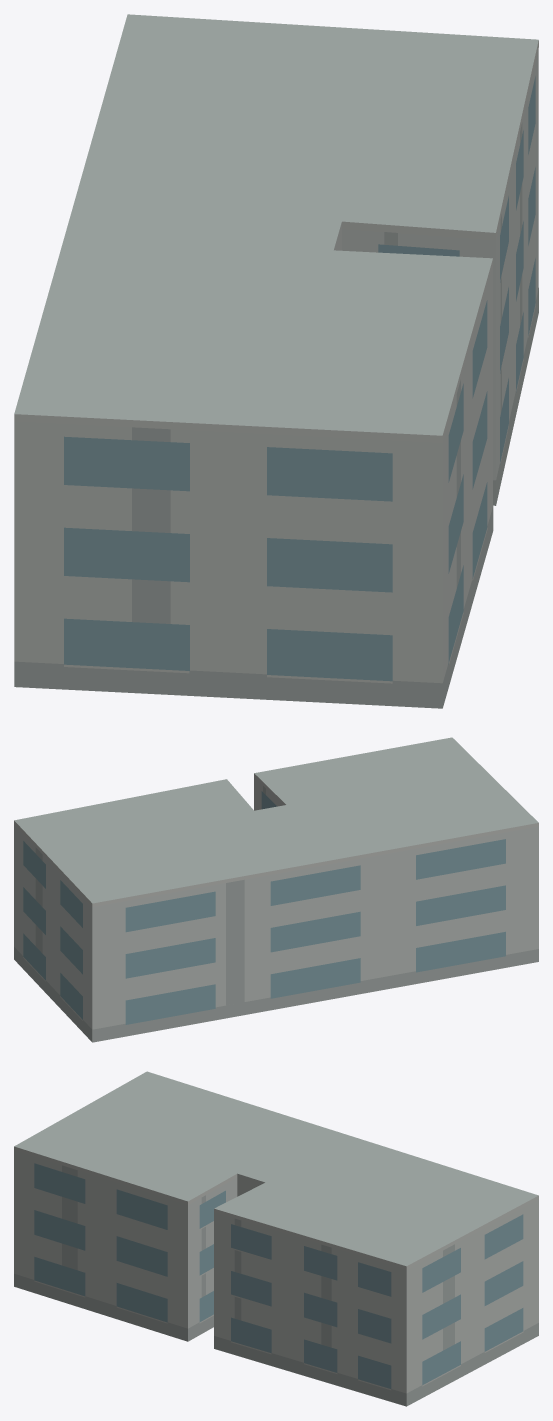
The model's file is residential-cdcfb48c-be3b-49c2-9b3b-4b22952d067b.glb.
3 views of the same model, one above another, from view 1: azimuth 30°, elevation 25°; view 2: azimuth 150°, elevation 25°; view 3: azimuth 270°, elevation 25° (orthographic). The views are drawn at different scales.
Parts seen in each view (by area): view 1: residential-cdcfb48c-be3b-49c2-9b3b-4b22952d067b.tmp; view 2: residential-cdcfb48c-be3b-49c2-9b3b-4b22952d067b.tmp; view 3: residential-cdcfb48c-be3b-49c2-9b3b-4b22952d067b.tmp.
Part boxes in pixels (<box>): residential-cdcfb48c-be3b-49c2-9b3b-4b22952d067b.tmp: <box>14,14,538,708</box>; residential-cdcfb48c-be3b-49c2-9b3b-4b22952d067b.tmp: <box>14,737,538,1042</box>; residential-cdcfb48c-be3b-49c2-9b3b-4b22952d067b.tmp: <box>14,1071,538,1406</box>.
Bounding box in the file's own units: 27.28 × 9.15 × 31.05.
